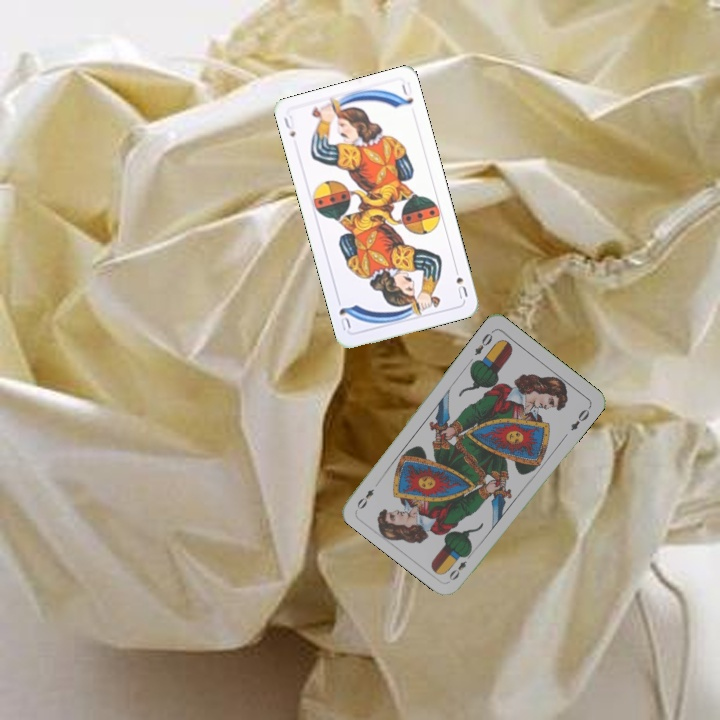EO: (445, 548, 475, 583), (470, 327, 496, 358)
SU: (450, 262, 470, 301), (279, 112, 298, 140)
